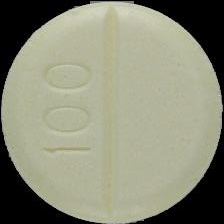69189-7772: (0, 0, 224, 224)
